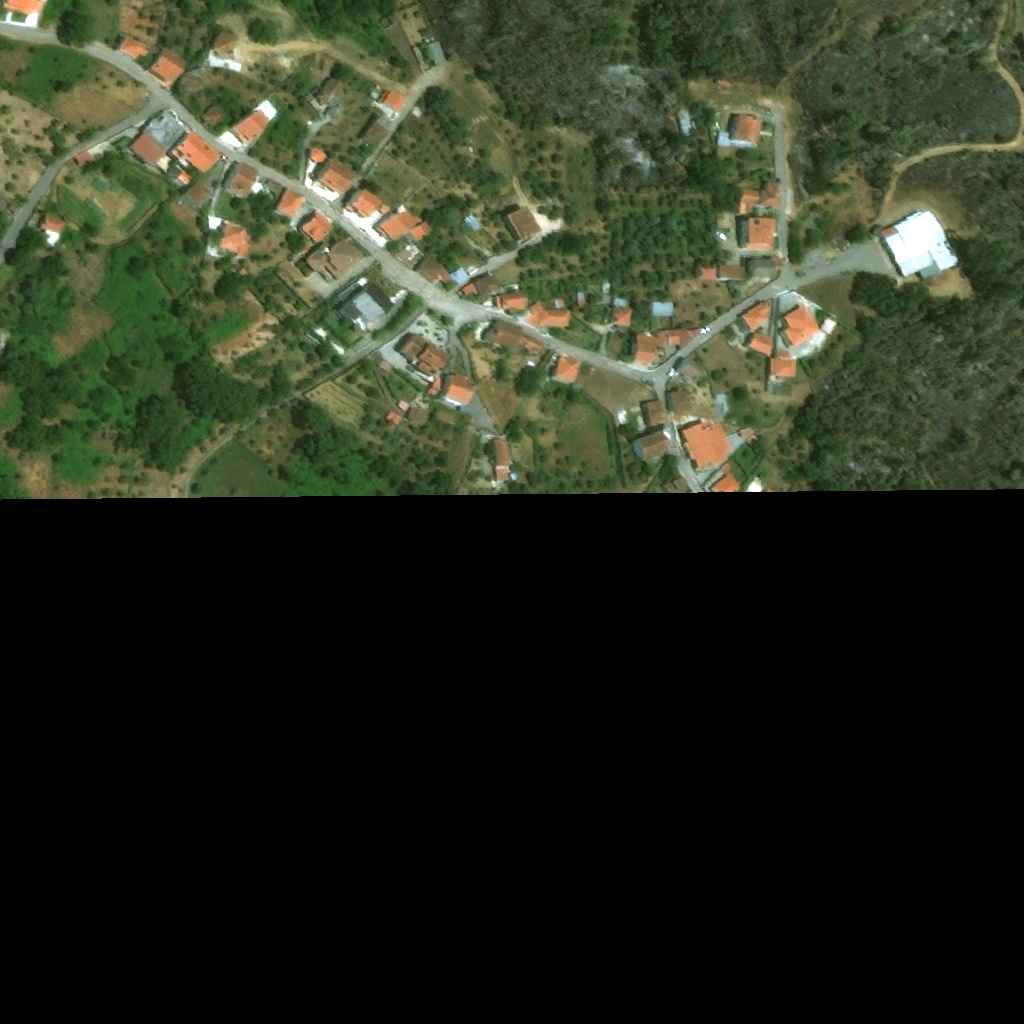0 no-damage: (875, 210, 959, 278), (303, 238, 365, 285), (630, 327, 703, 366), (333, 283, 396, 326), (680, 418, 732, 469), (481, 317, 546, 357), (373, 203, 433, 244), (169, 131, 220, 173), (776, 305, 822, 349), (142, 107, 185, 152), (414, 255, 469, 286), (717, 115, 762, 151), (499, 206, 541, 243), (317, 159, 358, 196), (734, 183, 780, 215), (146, 49, 187, 84), (230, 109, 271, 144), (313, 76, 346, 119), (528, 298, 571, 329), (222, 163, 258, 199), (739, 217, 776, 252), (128, 133, 166, 166), (631, 429, 670, 461), (344, 186, 381, 219), (219, 223, 252, 259), (297, 211, 334, 243), (440, 375, 476, 406), (35, 213, 66, 247), (416, 344, 450, 375), (208, 29, 239, 60), (274, 188, 304, 220), (182, 180, 212, 211), (395, 332, 427, 361), (358, 119, 388, 149), (116, 33, 150, 59), (459, 275, 499, 297), (550, 355, 580, 384), (740, 302, 770, 330), (748, 256, 784, 279), (397, 399, 429, 423), (767, 352, 796, 378), (493, 438, 510, 482), (376, 90, 408, 113), (611, 294, 631, 328), (640, 400, 665, 427), (677, 357, 705, 381), (744, 333, 772, 357), (494, 290, 528, 309), (199, 104, 225, 128), (177, 70, 204, 93), (166, 166, 193, 187), (425, 41, 446, 67), (665, 390, 689, 412), (461, 210, 483, 232), (716, 264, 746, 280), (648, 302, 673, 317), (696, 263, 717, 280), (740, 427, 757, 447), (385, 409, 403, 426), (427, 377, 442, 396), (713, 472, 738, 483), (309, 147, 326, 163), (713, 76, 731, 89), (379, 359, 395, 373), (266, 180, 282, 191), (377, 201, 390, 214), (576, 294, 585, 308), (600, 284, 609, 295)
1 minor-damage: (675, 109, 691, 135)
4 un-classified: (0, 0, 40, 18), (0, 332, 9, 347)
